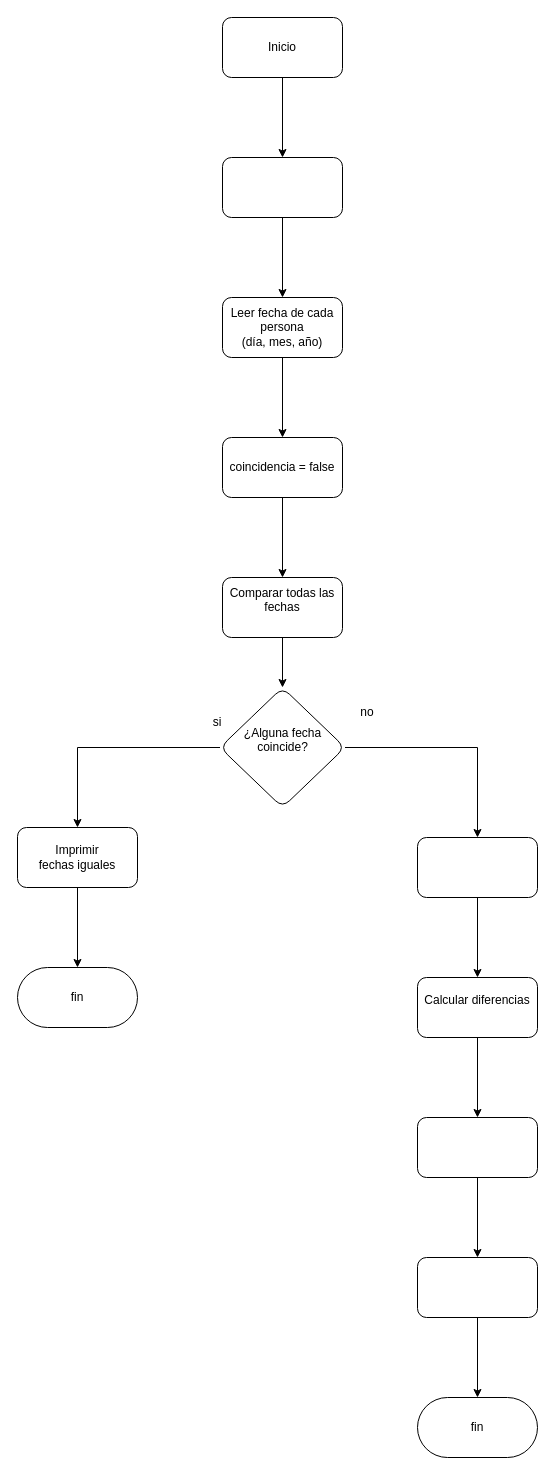
The diagram is 555 pixels wide and 1475 high, and some of its shapes have lost their labels. Here are the shapes that lost their labels. From the top down, the centre of each, then its label:
At (282,187): "Ingresa numero de personas (n)".
At (477,867): "Convertir fechas a días".
At (477,1147): "Buscar menor diferencia".
At (477,1287): "Mostrar fechas más cercanas".
